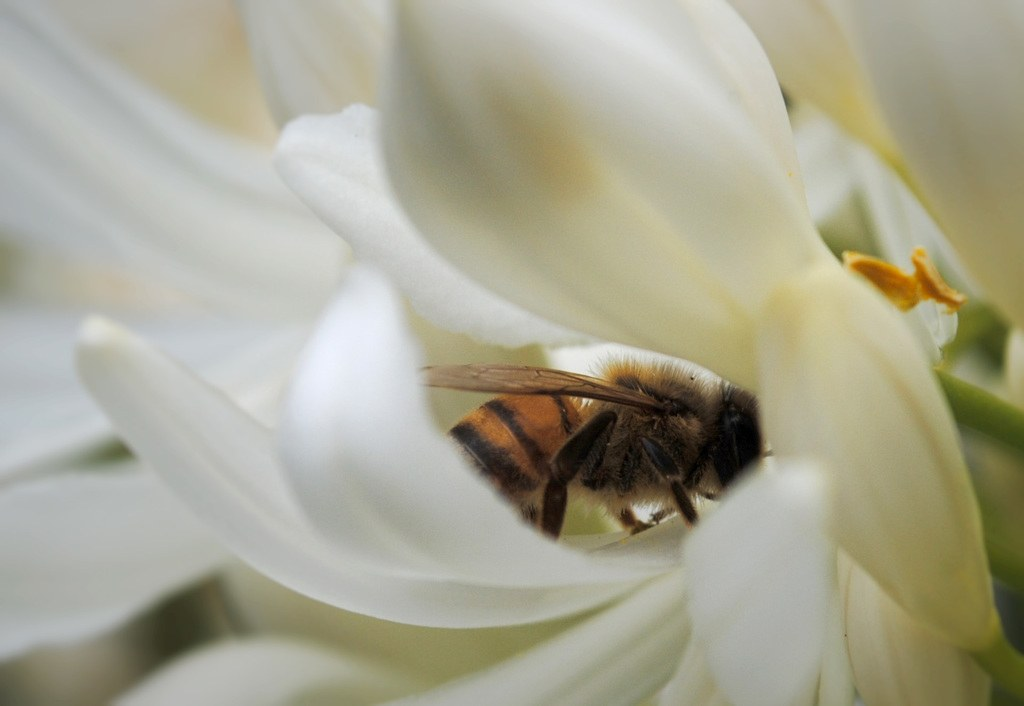bee: (421, 363, 774, 543)
